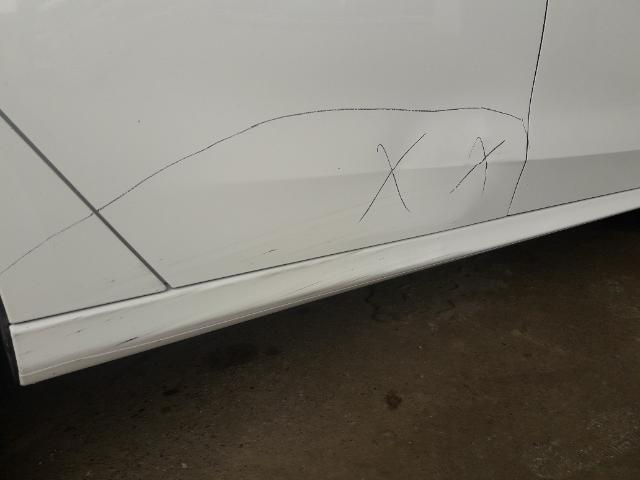crack: (338, 168, 341, 169)
dent: (269, 152, 640, 237), (379, 92, 504, 227)
scratch: (168, 232, 276, 268), (313, 188, 417, 219), (264, 250, 366, 276), (271, 277, 329, 301), (105, 328, 160, 350), (330, 272, 376, 290), (310, 237, 347, 249), (172, 290, 197, 303), (15, 347, 43, 358), (428, 253, 458, 263), (65, 329, 87, 337), (264, 247, 280, 253), (72, 315, 85, 322), (103, 317, 115, 323), (14, 334, 24, 340), (111, 279, 118, 285), (301, 234, 311, 237), (377, 257, 386, 260), (349, 268, 358, 271), (158, 259, 166, 262)
